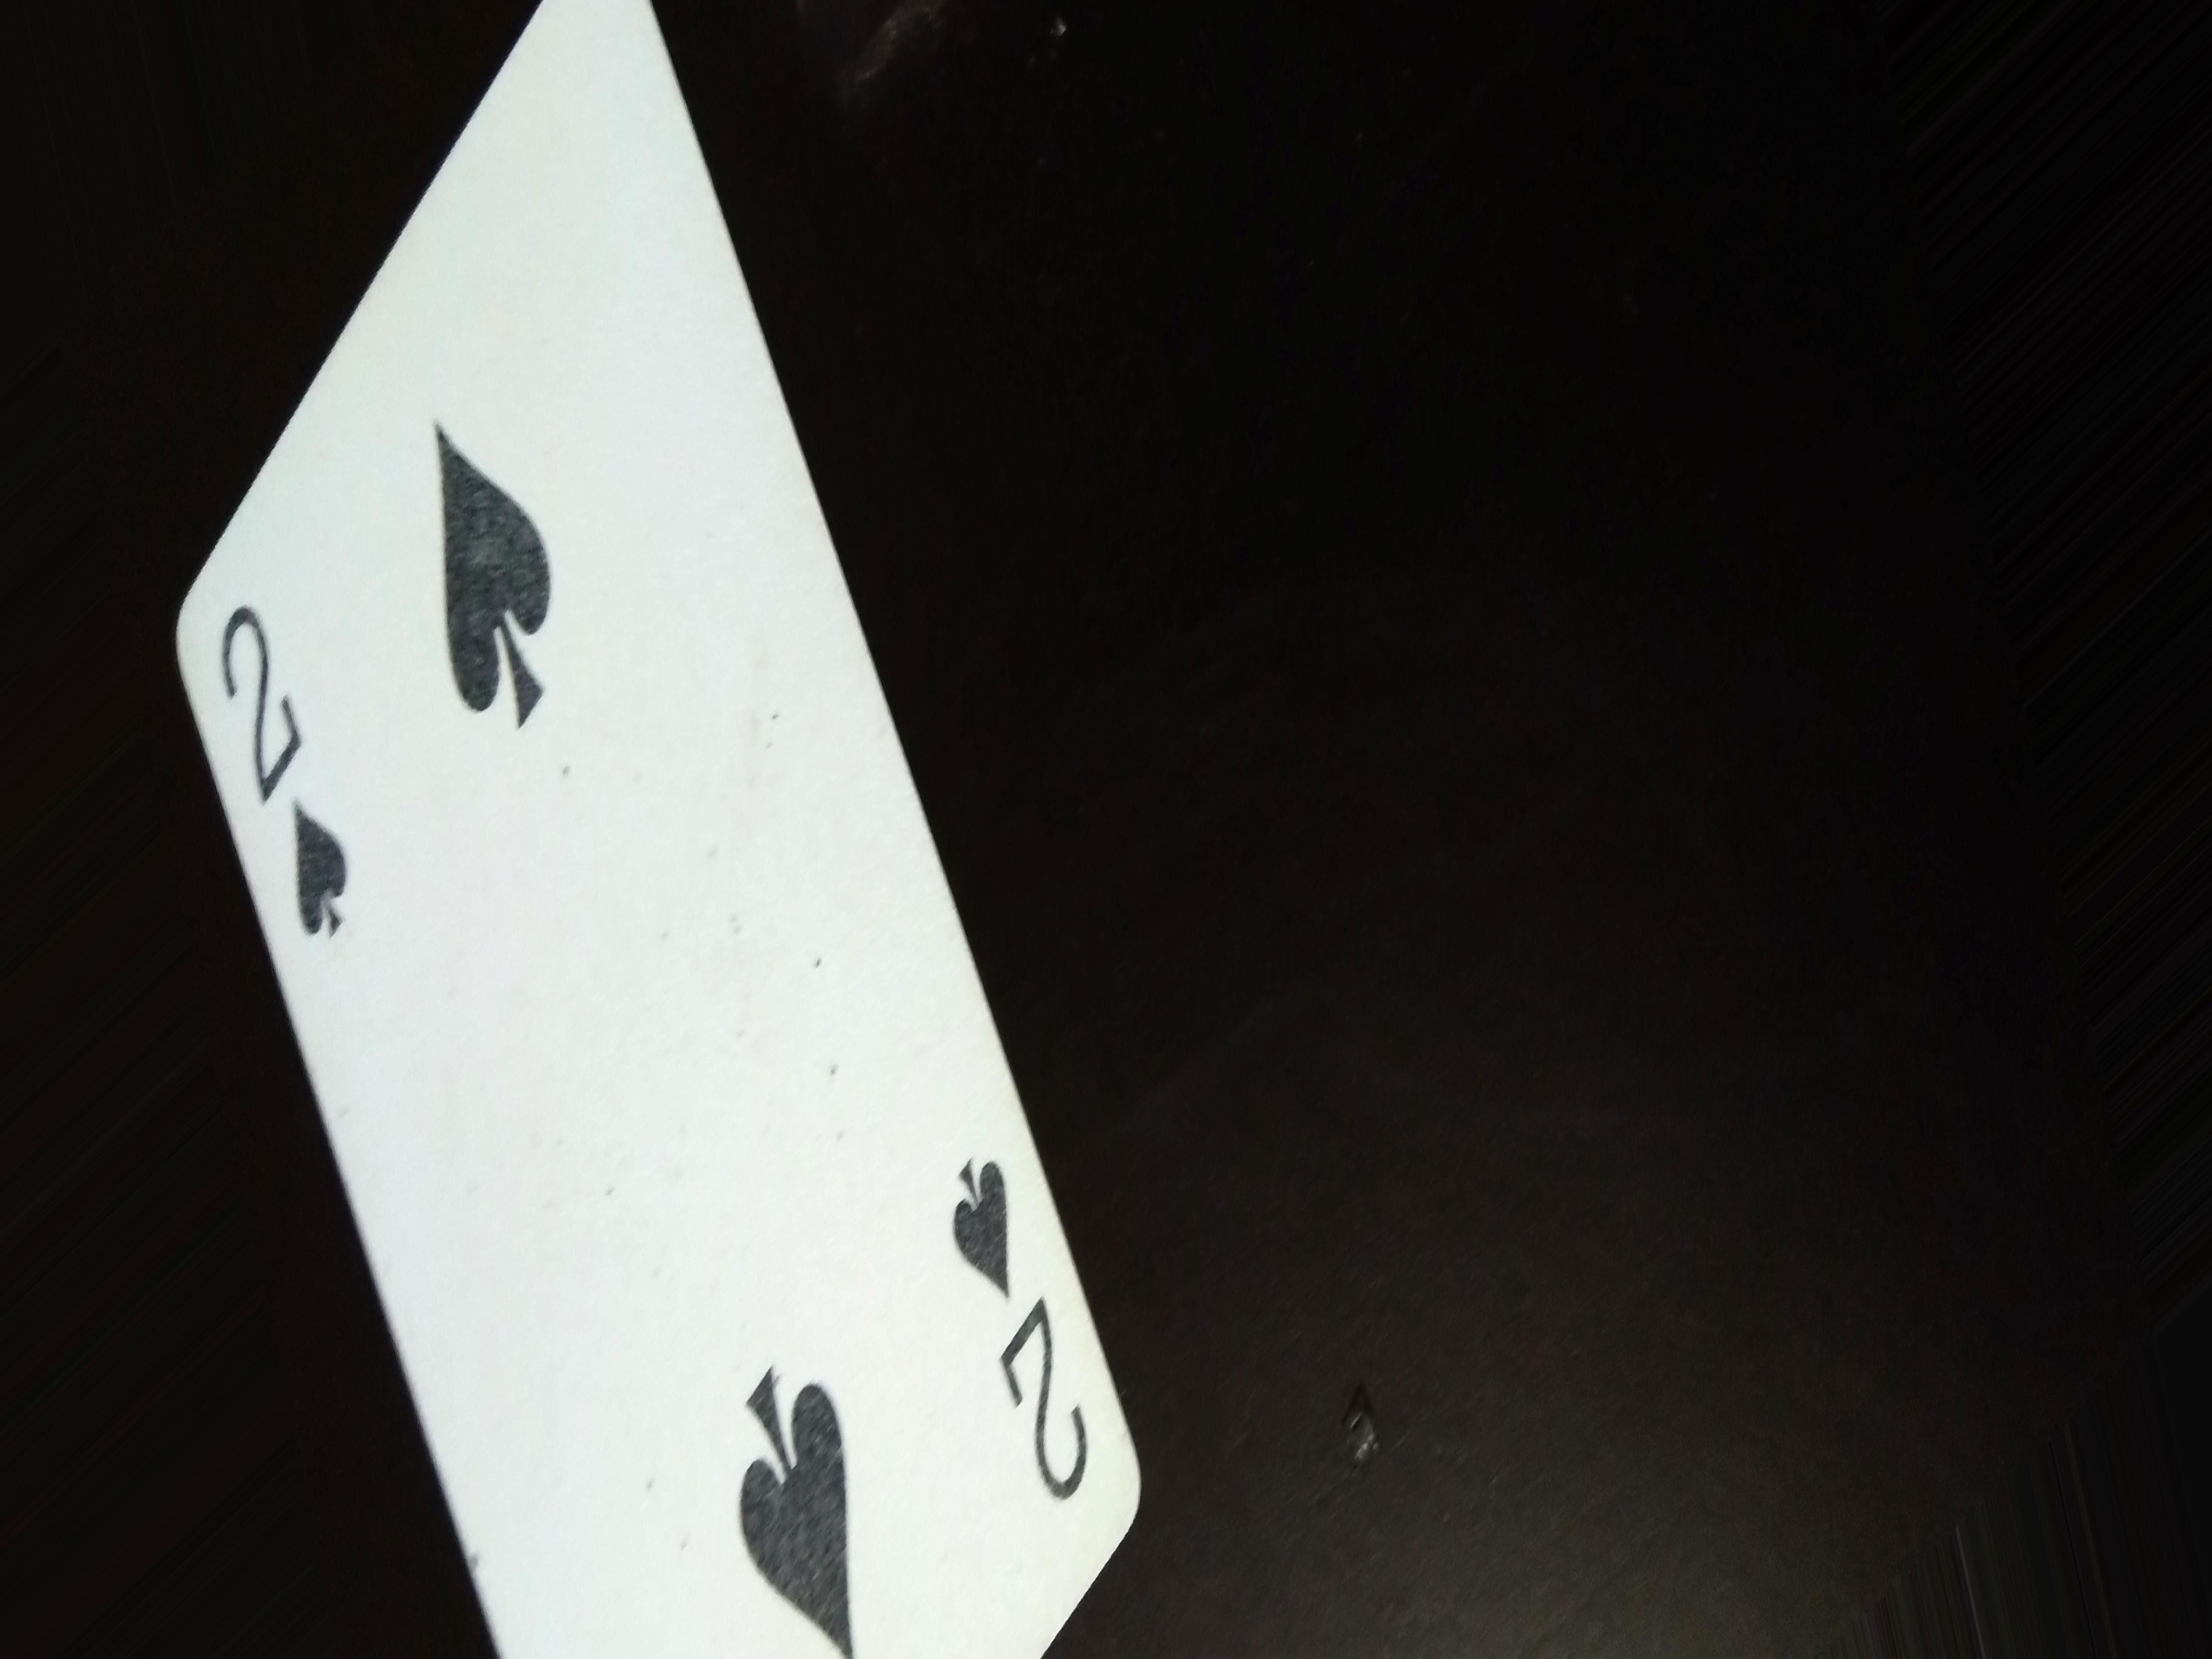2S: (188, 586, 385, 967)
